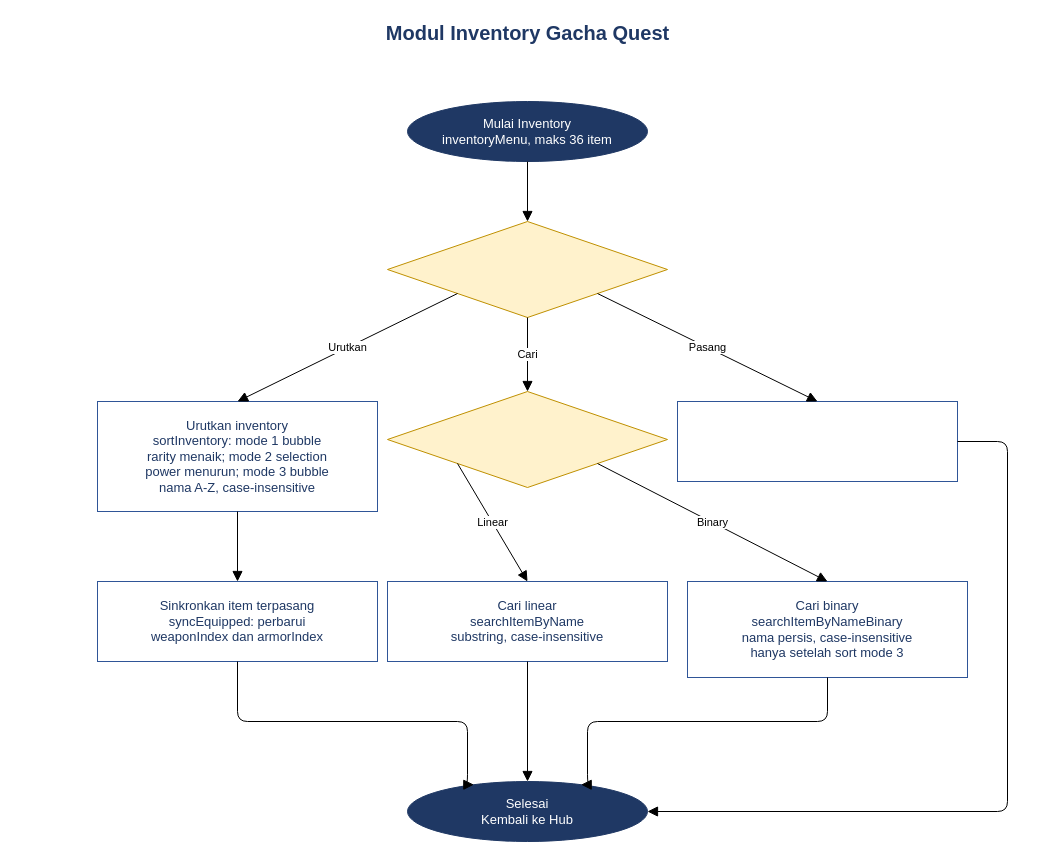
Image size: 1054x859. Some labels were removed from this diagram. The shapes that lost their labels are listed below. From the top down, each one's centre as x and y in pixels, then its label:
At [527,269]: "Pilih aksi Urutkan / Cari / Pasang".
At [527,439]: "Cari dengan apa? Linear / Binary".
At [817,441]: "Pasang item equipItem: senjata ke weaponIndex armor ke armorIndex".
